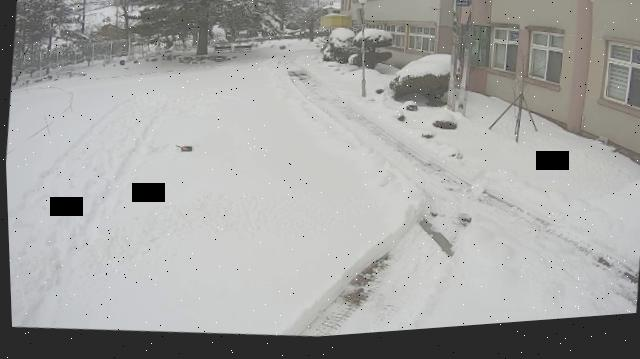fire: (181, 148, 187, 153)
